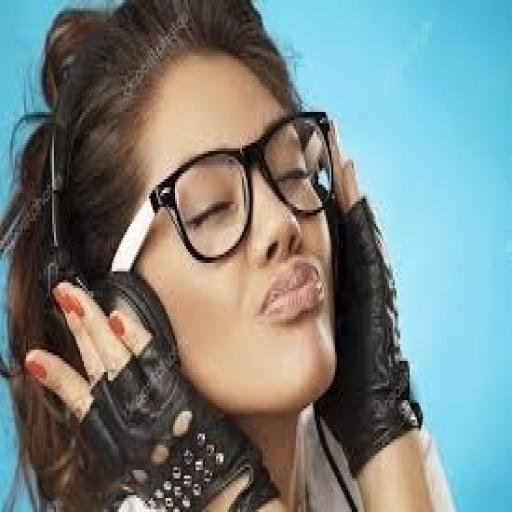listening_to_music: (0, 0, 462, 509)
